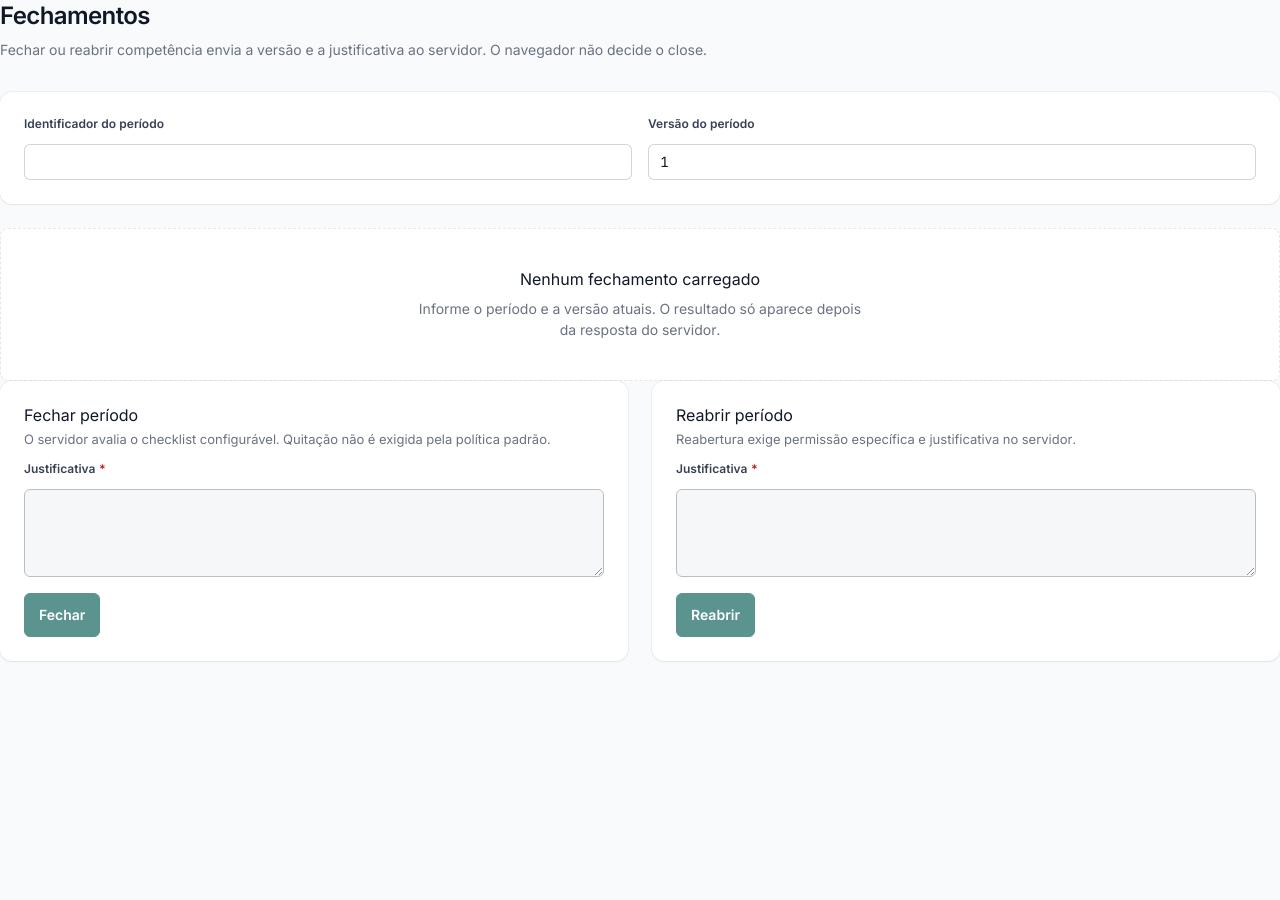
Test case: Accounting backoffice UI › shows closed period after a successful close response
The image size is (1280, 900).
Type "aaaaaaaa-aaaa-4aaa-8aaa-aaaaaaaaaaa6" into the field labelled "Identificador do período".
click(328, 162); type("aaaaaaaa-aaaa-4aaa-8aaa-aaaaaaaaaaa6")  # box 24,144 -> 632,180
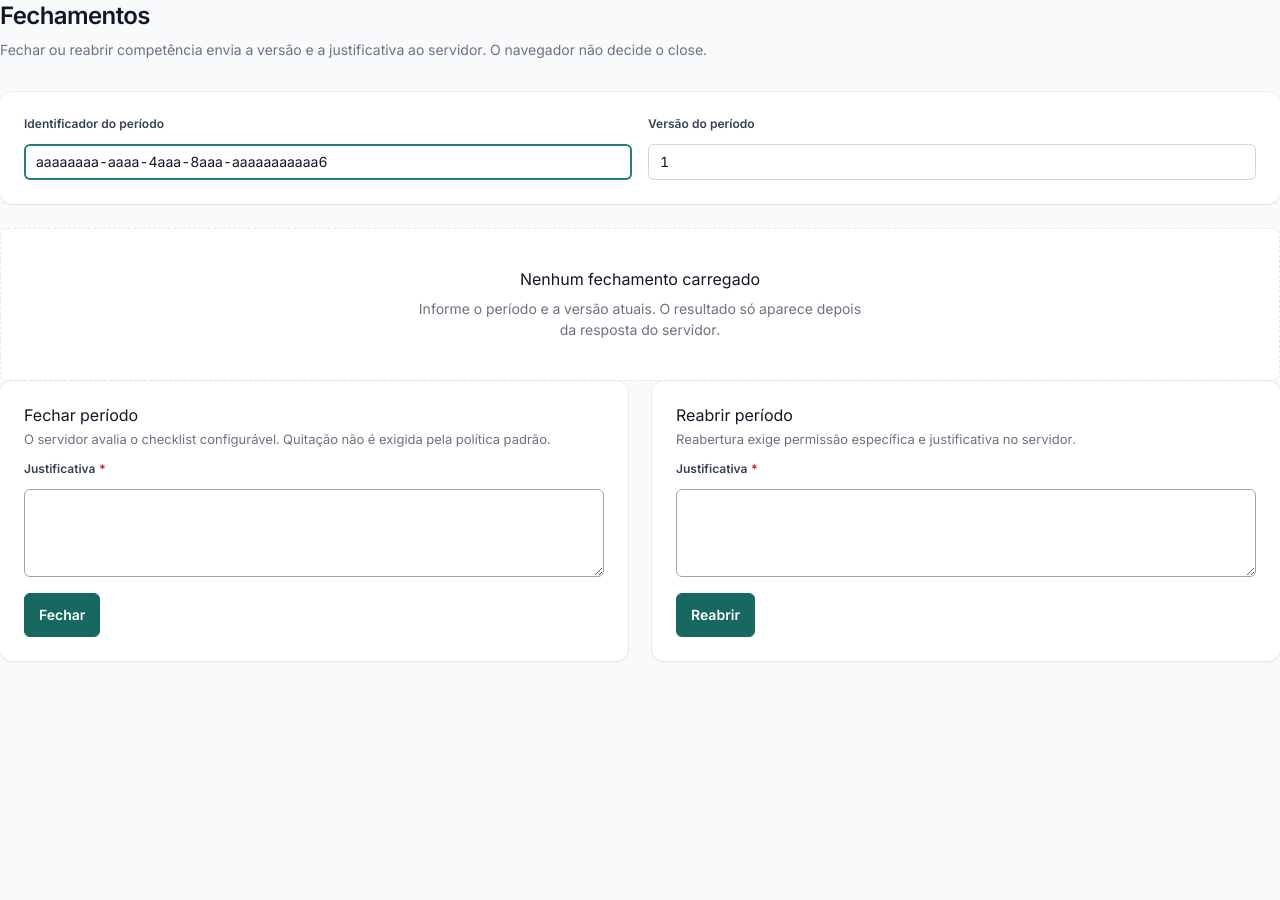
Type "Fechamento mensal" into the text box labelled "Justificativa *" below "Fechar período".
click(314, 533); type("Fechamento mensal")  # box 24,489 -> 604,577
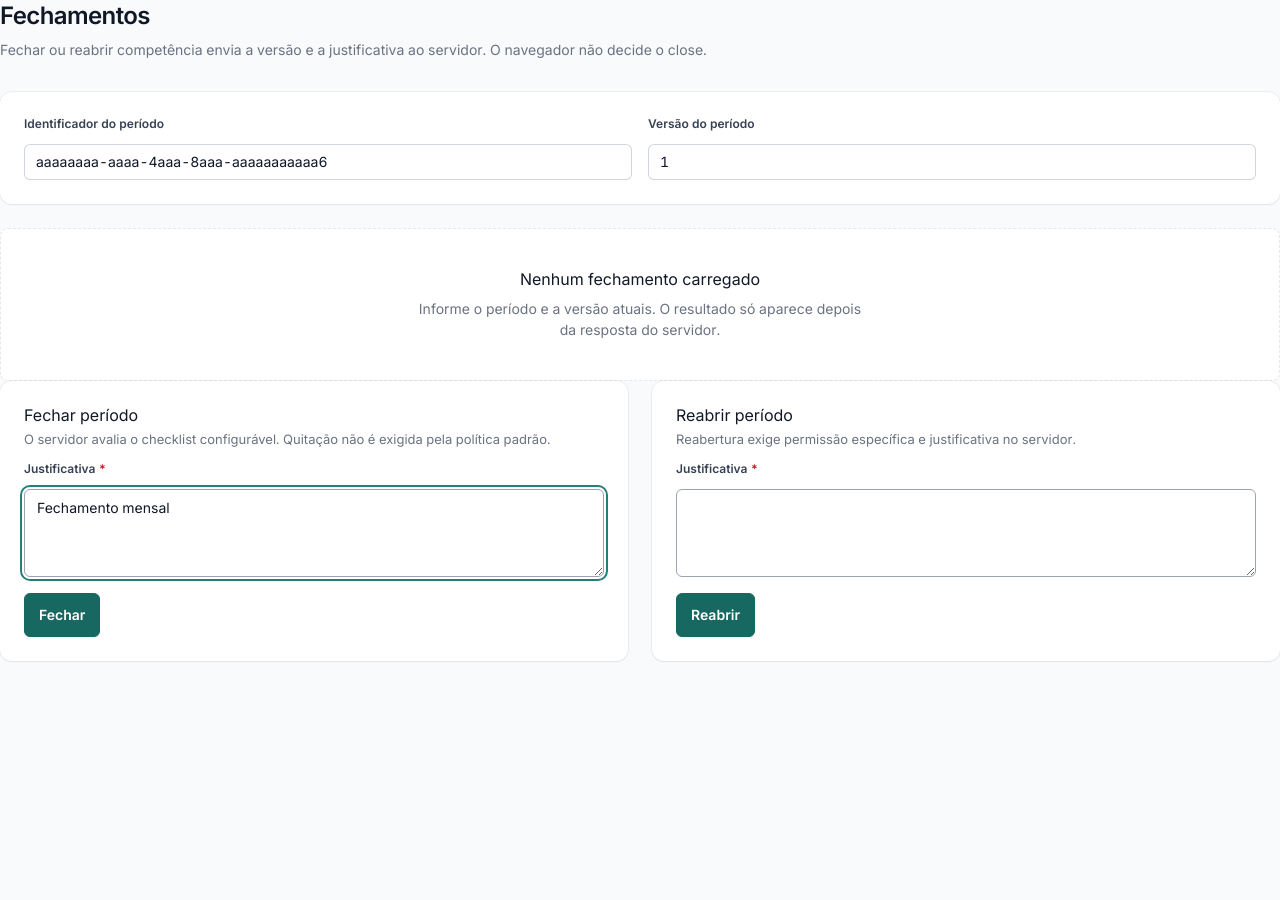
Click the button "Fechar".
click(62, 615)  # box 24,593 -> 100,637
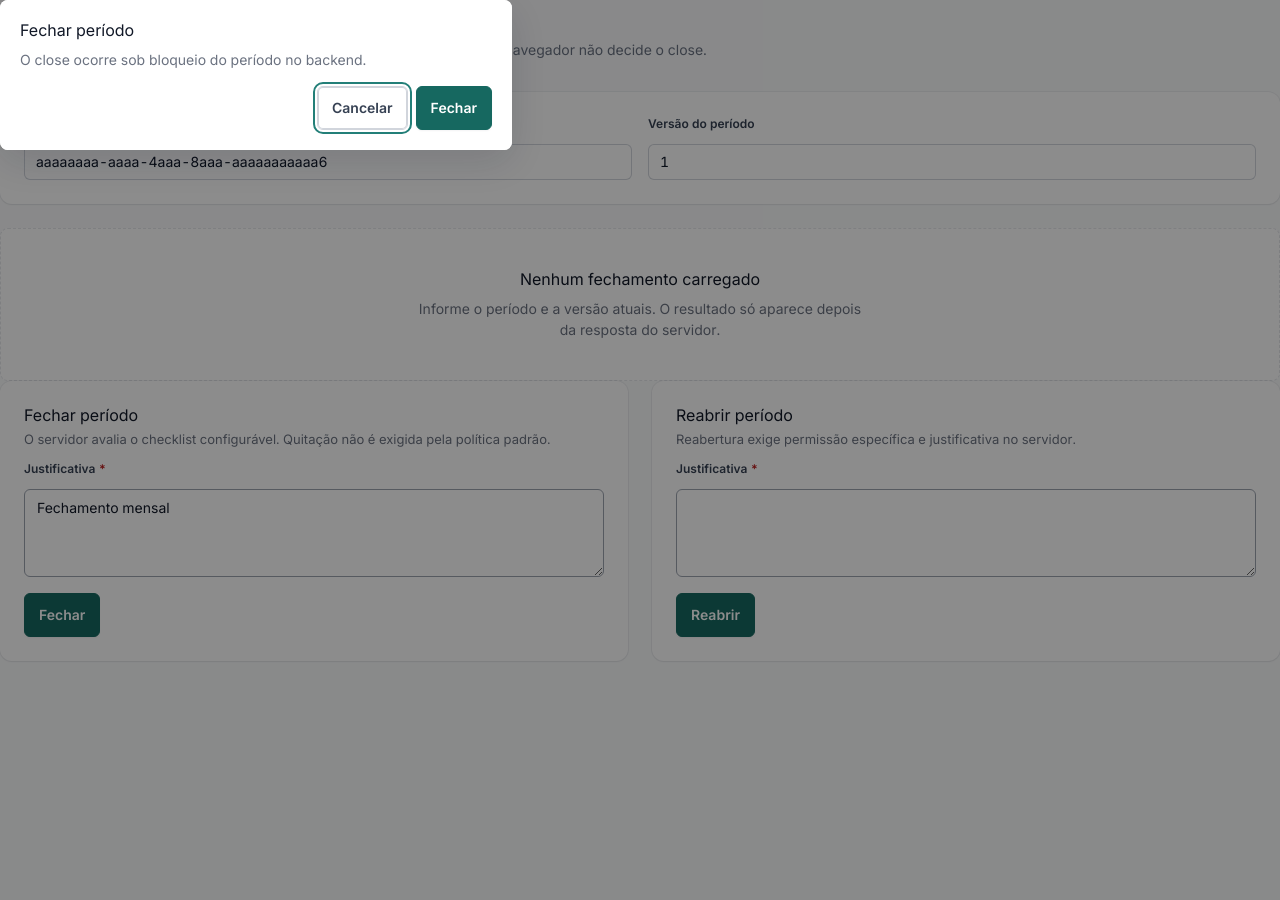
Click the button "Fechar".
click(454, 108)  # box 416,86 -> 492,130
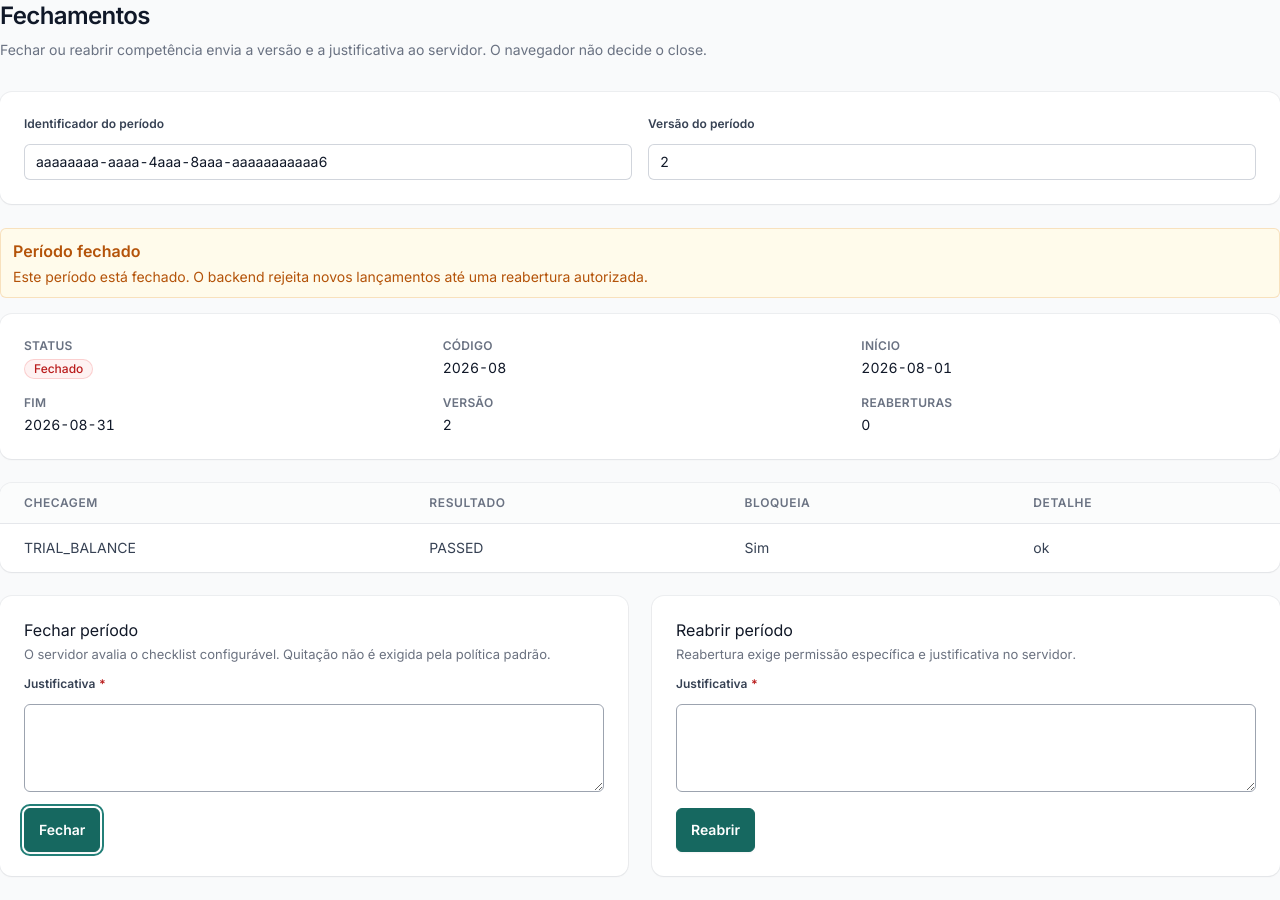
Expected: the heading "Período fechado" is shown, 13,241 -> 140,261
Expected: the element named "status: fechado" is shown, 24,359 -> 93,376
